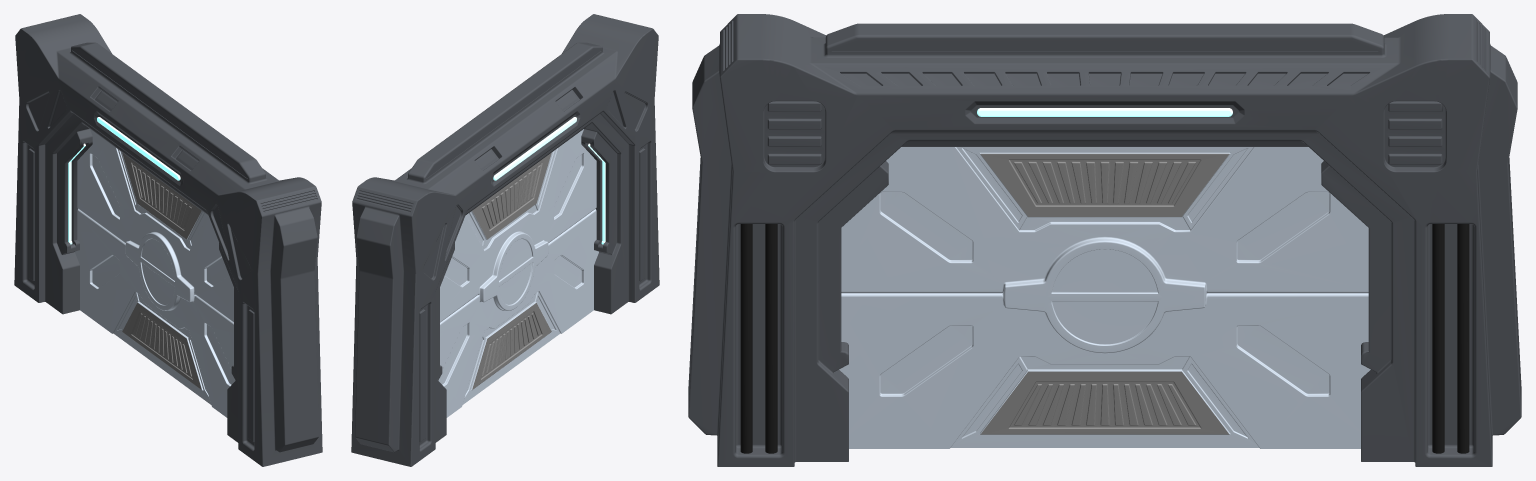
The model's file is sci-fi_door_high_poly.glb.
3 views of the same model, side by side, from view 1: azimuth 30°, elevation 25°; view 2: azimuth 150°, elevation 25°; view 3: azimuth 270°, elevation 25° (orthographic). The views are drawn at different scales.
Visible parts, largest first — view 1: Object_3, Object_5, Object_4, Object_6; view 2: Object_3, Object_5, Object_4, Object_6; view 3: Object_3, Object_5, Object_4, Object_2, Object_6.
Boxes of the visible parts, x1,y1,x2,y2 form: Object_3: [14, 14, 322, 466]; Object_5: [75, 129, 235, 417]; Object_4: [122, 153, 201, 389]; Object_6: [68, 117, 180, 244]; Object_3: [351, 14, 659, 466]; Object_5: [438, 129, 598, 417]; Object_4: [472, 153, 551, 389]; Object_6: [493, 117, 605, 244]; Object_3: [688, 14, 1521, 466]; Object_5: [839, 147, 1370, 448]; Object_4: [980, 153, 1229, 434]; Object_2: [740, 224, 1469, 453]; Object_6: [977, 108, 1232, 116].
Size of the model in its own units: 72 by 295 by 537.
